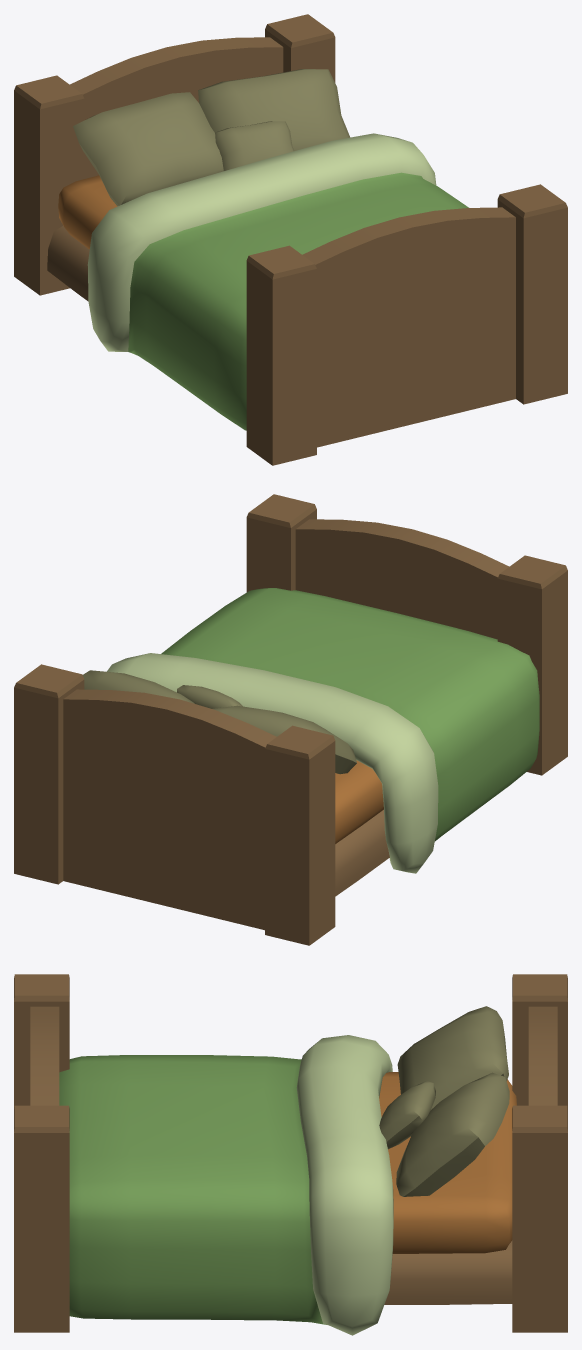
The model's file is bed.glb.
3 renders of one model, top to bottom at view 1: azimuth 30°, elevation 25°; view 2: azimuth 150°, elevation 25°; view 3: azimuth 270°, elevation 25°, orthographic. The views are drawn at different scales.
Parts seen in each view (by area): view 1: Bed; view 2: Bed; view 3: Bed.
Boxes of the visible parts, x1=… form: Bed: x1=14, y1=14, x2=567, y2=465; Bed: x1=14, y1=494, x2=567, y2=945; Bed: x1=14, y1=974, x2=567, y2=1335.
Size of the model in its own units: 3.64 by 2.07 by 4.92.
1 material, 1 textured.
